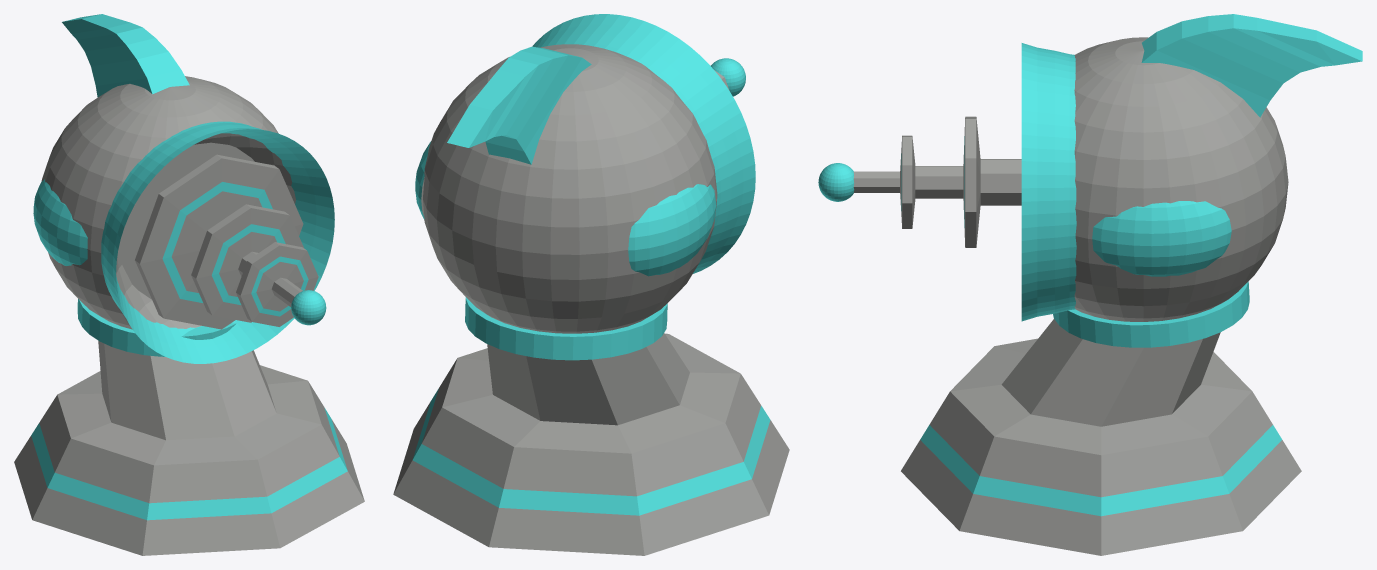
File: Laser_Tower_Upgraded_Ice.fbx
3 views of the same model, side by side, from view 1: azimuth 30°, elevation 25°; view 2: azimuth 150°, elevation 25°; view 3: azimuth 270°, elevation 25° (orthographic). The views are drawn at different scales.
Parts seen in each view (by area): view 1: Sphere; view 2: Sphere; view 3: Sphere.
Boxes of the visible parts, <box> form: Sphere: <box>14,14,364,555</box>; Sphere: <box>393,14,789,555</box>; Sphere: <box>818,14,1362,555</box>.
Size of the model in its own units: 445 by 551 by 603.
Materials: 1 (1 with a texture image).
